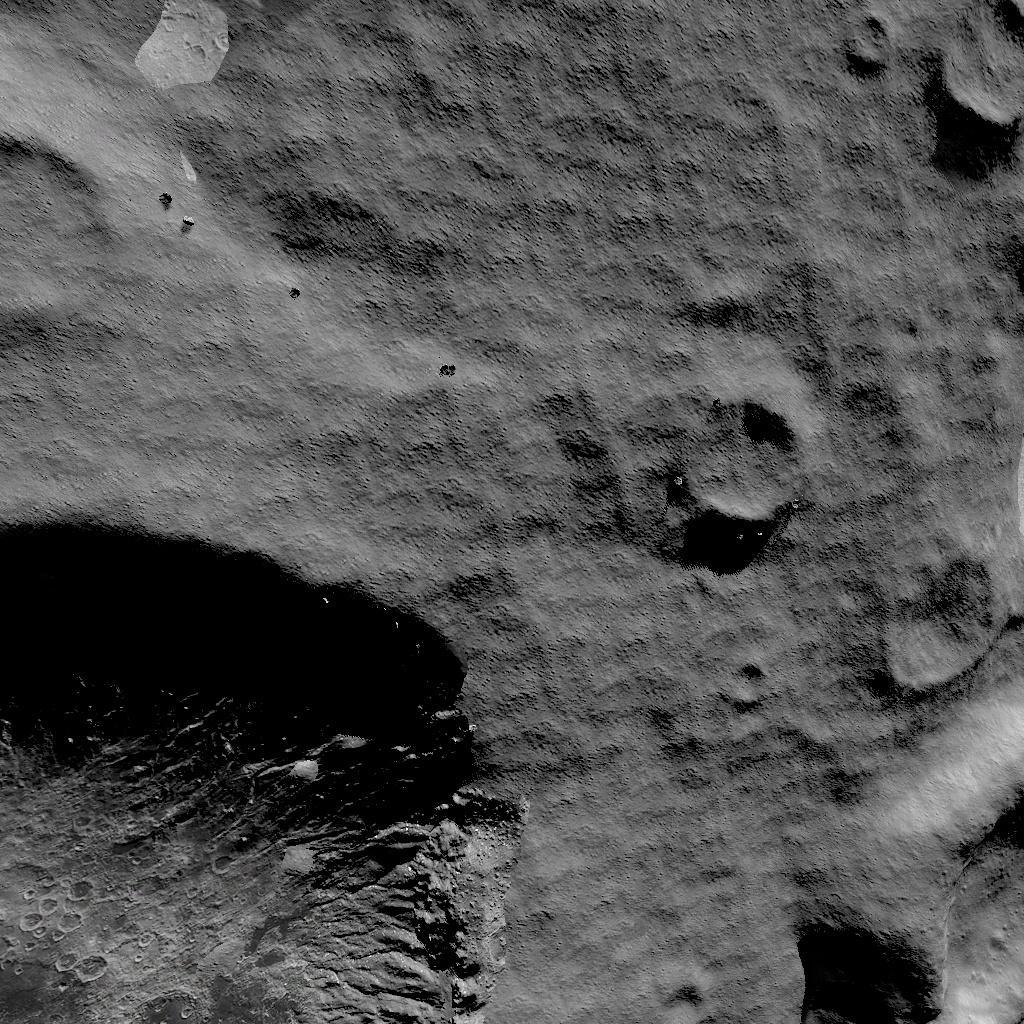Boulders: (107, 0, 237, 97)
Crater: (0, 494, 532, 1024), (751, 710, 1024, 1024), (656, 390, 814, 537), (860, 542, 1000, 695), (923, 0, 1024, 126), (835, 10, 900, 78)
Plan surface: (317, 0, 815, 219), (0, 330, 388, 480)
